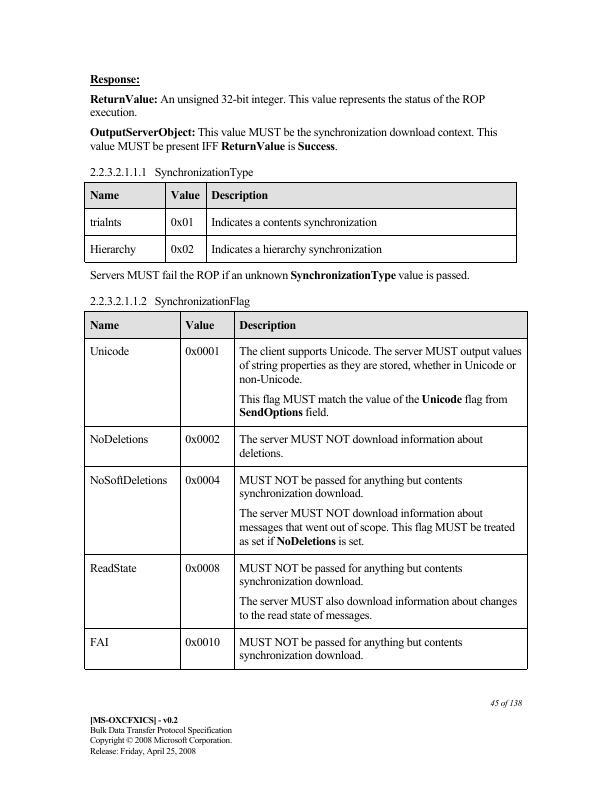table: (83, 310, 530, 671), (83, 182, 519, 266)
text: (87, 90, 487, 120), (86, 125, 500, 152), (85, 712, 233, 757), (86, 268, 471, 283), (85, 163, 258, 179), (86, 294, 254, 307), (87, 70, 146, 88), (487, 697, 525, 711)
